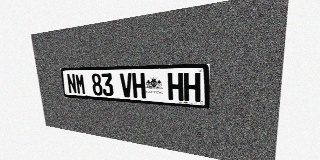3: (101, 73, 114, 96)
8: (91, 73, 103, 96)
H: (184, 72, 200, 102), (168, 73, 183, 101), (132, 73, 146, 98)
M: (75, 73, 86, 95)
N: (66, 73, 77, 94)
V: (120, 73, 133, 98)
